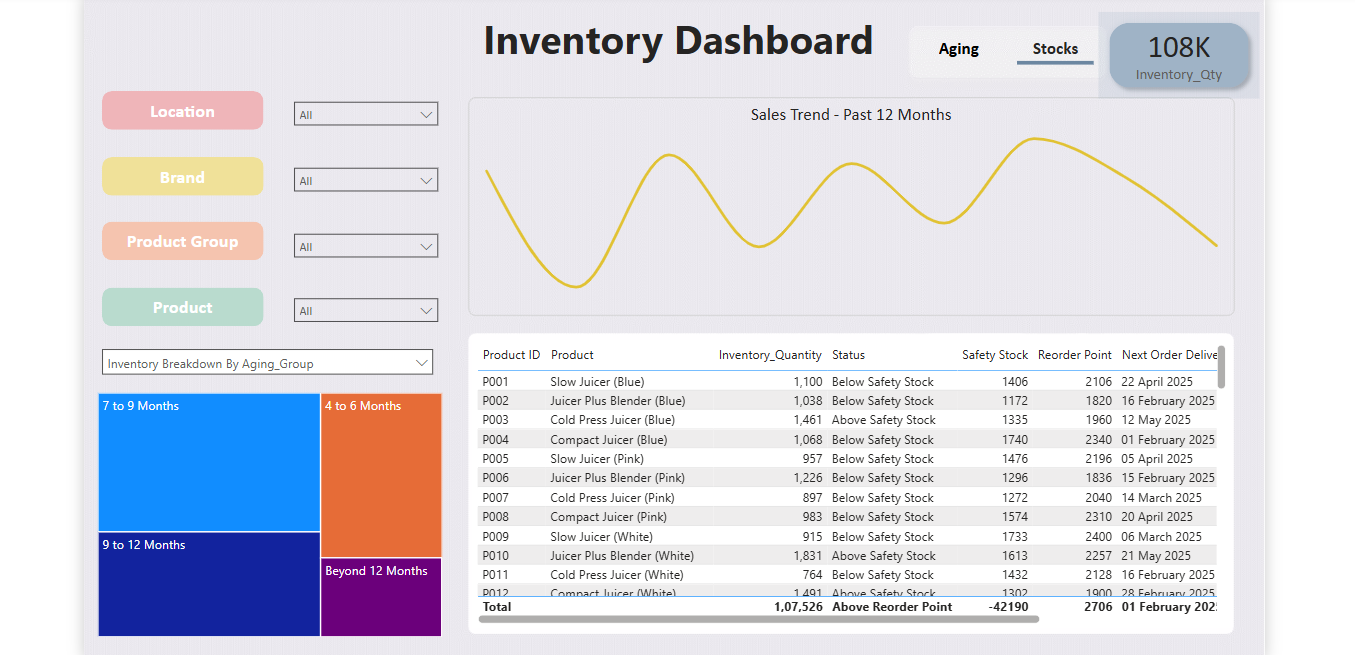

Layout of this report page (visuals, bound fields, positions):
{"tool":"powerbi","page":{"name":"Stocks","canvas":[1280,720],"ordinal":1},"visuals":[{"type":"textbox","box":[9.4,13.2,1269.9,69.9],"z":0},{"type":"pageNavigator","box":[901.4,13.2,200.3,90.7],"z":1000},{"type":"shape","box":[1011,41.6,83.2,62.4],"z":2000},{"type":"cardVisual","fields":{"Data":["Measure Table.Inventory_Quantity"]},"box":[1094.7,13,185.4,104.1],"z":3000},{"type":"shape","box":[19.5,104.1,175,42],"z":4000},{"type":"shape","box":[19.5,175.1,175,42.3],"z":5000},{"type":"shape","box":[19.5,246.2,175,42.3],"z":6000},{"type":"shape","box":[19.5,317.2,175,42.3],"z":7000},{"type":"lineChart","title":"Sales Trend - Past 12 Months","fields":{"Y":["Sum(_sales.Sales Quantity)"],"Category":["DimDate.Year Month"]},"box":[421.3,117.1,821.4,221.2],"z":8000},{"type":"slicer","fields":{"Values":["_stock.Location"]},"box":[218,110.6,175.7,39],"z":9000},{"type":"slicer","fields":{"Values":["_product.Product Group"]},"box":[218,253.7,175.7,40.7],"z":10000},{"type":"slicer","fields":{"Values":["_product.Brand"]},"box":[218,182.2,175.7,40.7],"z":11000},{"type":"slicer","fields":{"Values":["_product.Product"]},"box":[218,323.7,175.7,39],"z":12000},{"type":"treemap","title":" ","fields":{"Group":["_stock.Aging_Group"],"Values":["Measure Table.Inventory_Quantity"]},"box":[9.8,426.2,383.9,274.9],"z":13000},{"type":"slicer","fields":{"Values":["Inventory_Breakdown.Inventory_Breakdown"]},"box":[9.8,374.1,379,52],"z":14000},{"type":"tableEx","fields":{"Values":["_product.Product ID","_product.Product","Measure Table.Inventory_Quantity","Measure Table.Status","Measure Table.Safety Stock","Measure Table.Reorder Point","Measure Table.Next Order Date","Measure Table.Next Order Qty","Measure Table.Avg Daily Sales"]},"box":[421.3,374.1,821.4,312.3],"z":15000}]}

Visuals, with their boxes on the page's 1280x720 design canvas (x1, y1, x2, y2). These are canvas units, not pixel positions in the 1355x655 screenshot, which may show the page scaled, cropped or inside an application window:
textbox: x1=9, y1=13, x2=1279, y2=83
pageNavigator: x1=901, y1=13, x2=1102, y2=104
shape: x1=1011, y1=42, x2=1094, y2=104
cardVisual - Measure Table.Inventory_Quantity: x1=1095, y1=13, x2=1280, y2=117
shape: x1=20, y1=104, x2=194, y2=146
shape: x1=20, y1=175, x2=194, y2=217
shape: x1=20, y1=246, x2=194, y2=288
shape: x1=20, y1=317, x2=194, y2=360
"Sales Trend - Past 12 Months" lineChart: x1=421, y1=117, x2=1243, y2=338
slicer - _stock.Location: x1=218, y1=111, x2=394, y2=150
slicer - _product.Product Group: x1=218, y1=254, x2=394, y2=294
slicer - _product.Brand: x1=218, y1=182, x2=394, y2=223
slicer - _product.Product: x1=218, y1=324, x2=394, y2=363
" " treemap: x1=10, y1=426, x2=394, y2=701
slicer - Inventory_Breakdown.Inventory_Breakdown: x1=10, y1=374, x2=389, y2=426
tableEx - _product.Product ID x _product.Product: x1=421, y1=374, x2=1243, y2=686
